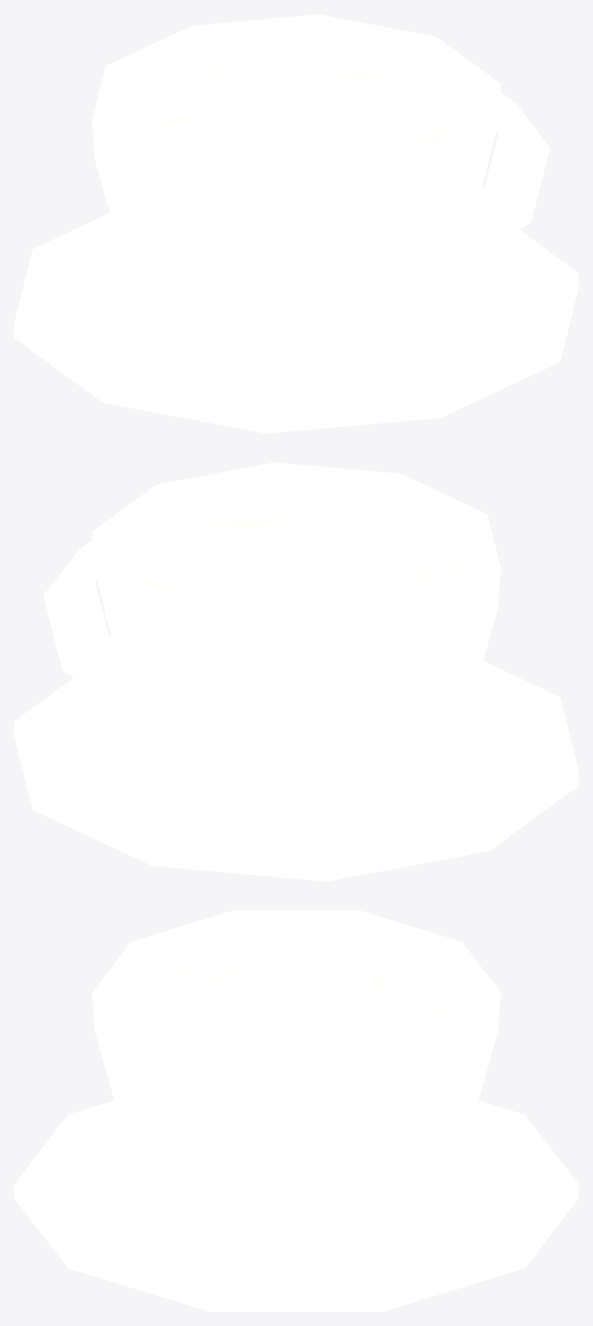
The model's file is cutepack2023latte 1.fbx.
The picture shows the model from 3 angles, top to bottom: view 1: azimuth 30°, elevation 25°; view 2: azimuth 150°, elevation 25°; view 3: azimuth 270°, elevation 25°; orthographic projection. The views are drawn at different scales.
Parts seen in each view (by area): view 1: Circle.002, Circle.001; view 2: Circle.002, Circle.001; view 3: Circle.002, Circle.001.
Boxes of the visible parts, box(x1,y1,x2,y2) form: Circle.002: box(14, 14, 578, 433); Circle.001: box(133, 59, 460, 173); Circle.002: box(14, 462, 578, 881); Circle.001: box(132, 507, 459, 621); Circle.002: box(14, 910, 578, 1311); Circle.001: box(138, 953, 454, 1059).
Bounding box in the file's own units: 71.26 × 30.33 × 74.88.
